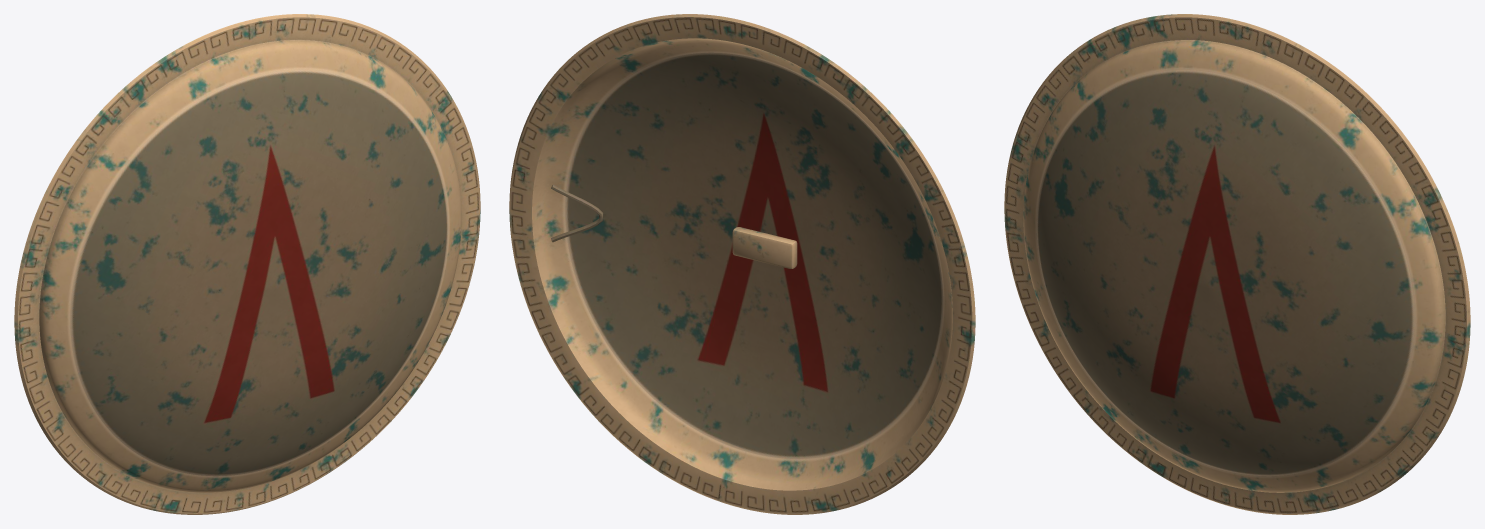
Rendered from hoplon.glb.
3 renders of one model, left to right at view 1: azimuth 30°, elevation 25°; view 2: azimuth 150°, elevation 25°; view 3: azimuth 330°, elevation 25°, orthographic.
Visible parts, largest first — view 1: hoplon; view 2: hoplon; view 3: hoplon.
Part boxes in pixels (<box>): hoplon: <box>14,14,480,514</box>; hoplon: <box>509,14,975,514</box>; hoplon: <box>1004,14,1470,514</box>.
Bounding box in the file's own units: 0.908 × 0.908 × 0.1.
1 material, 1 textured.
